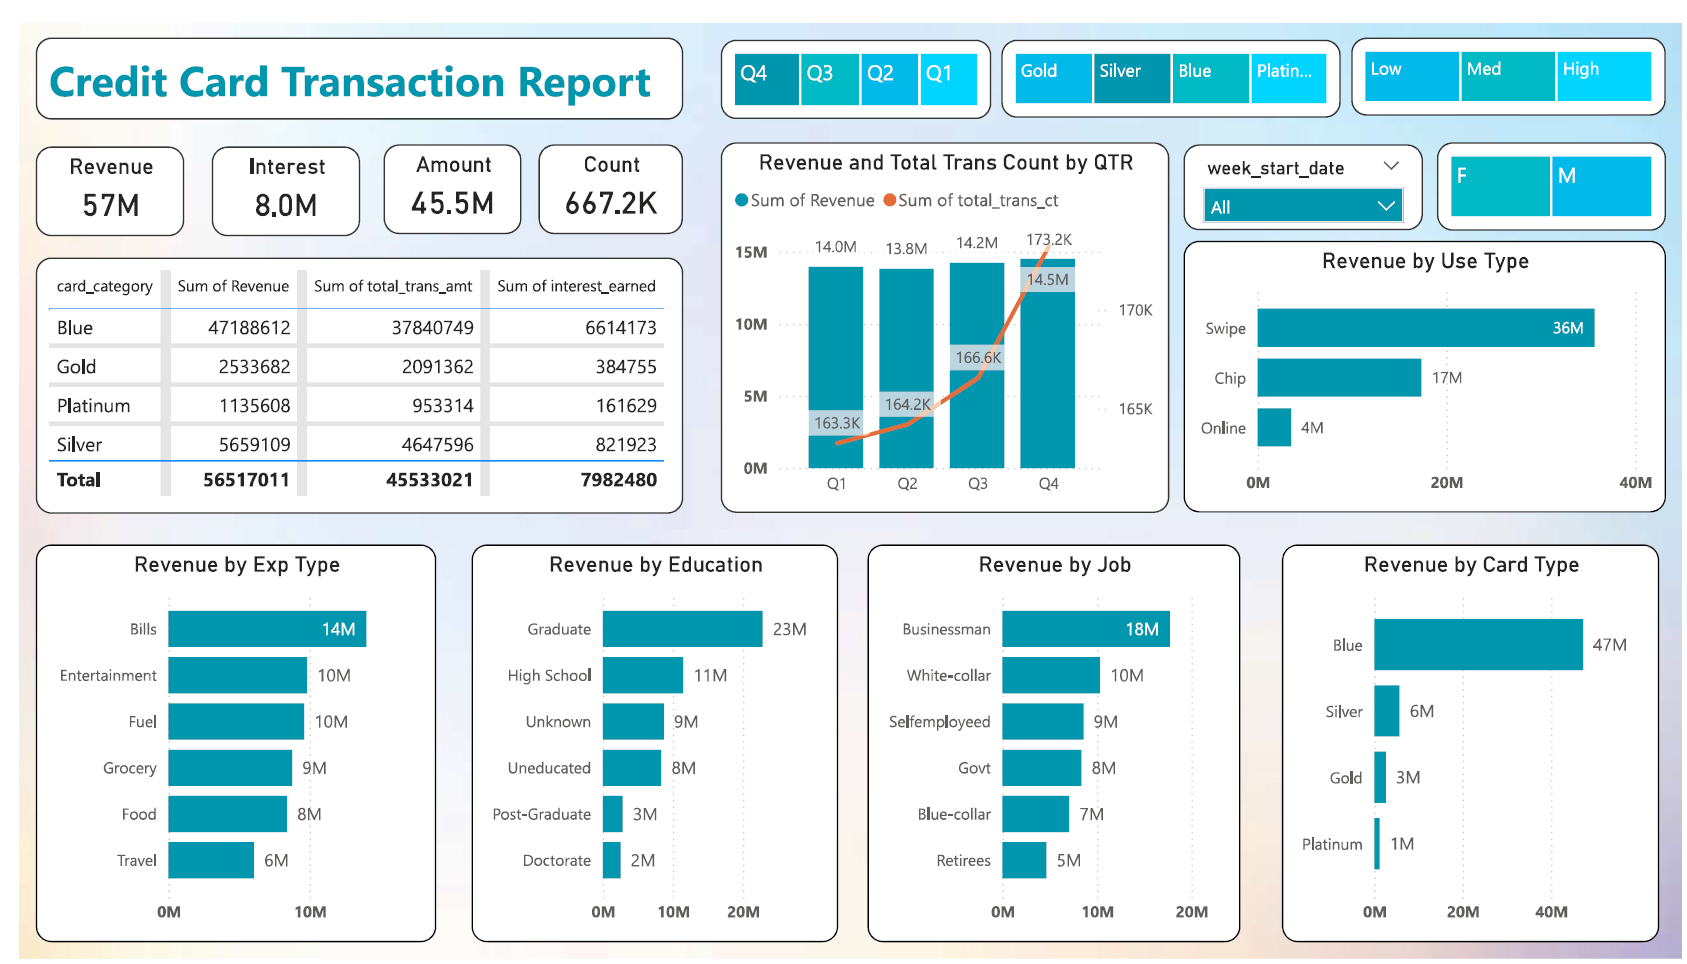

The dashboard page shown, as its layout file describes it:
{"tool":"powerbi","page":{"name":"CC Transaction","canvas":[1280,720],"ordinal":0},"visuals":[{"type":"textbox","box":[12.9,11.3,497.9,62.8],"z":0},{"type":"lineStackedColumnComboChart","title":"Revenue and Total Trans Count by QTR","fields":{"Category":["public cc_detail.qtr"],"Y":["Sum(public cc_detail.Revenue)"],"Y2":["Sum(public cc_detail.total_trans_ct)"]},"box":[539.8,91.9,344.8,285.2],"z":1000},{"type":"barChart","title":"Revenue by Exp Type","fields":{"Y":["Sum(public cc_detail.Revenue)"],"Category":["public cc_detail.exp_type"]},"box":[12.9,401.2,307.8,306.2],"z":2000},{"type":"barChart","title":"Revenue by Education","fields":{"Y":["Sum(public cc_detail.Revenue)"],"Category":["public cust_detail.education_level"]},"box":[348.1,401.2,282,306.2],"z":3000},{"type":"barChart","title":"Revenue by Job","fields":{"Y":["Sum(public cc_detail.Revenue)"],"Category":["public cust_detail.customer_job"]},"box":[652.6,401.2,286.8,306.2],"z":4000},{"type":"barChart","title":"Revenue by Card Type","fields":{"Y":["Sum(public cc_detail.Revenue)"],"Category":["public cc_detail.card_category"]},"box":[971.7,401.2,290.1,306.2],"z":5000},{"type":"barChart","title":"Revenue by Use Type","fields":{"Y":["Sum(public cc_detail.Revenue)"],"Category":["public cc_detail.use_chip"]},"box":[896,167.6,370.6,209.5],"z":6000},{"type":"tableEx","fields":{"Values":["public cc_detail.card_category","Sum(public cc_detail.Revenue)","Sum(public cc_detail.total_trans_amt)","Sum(public cc_detail.interest_earned)"]},"box":[12.9,180.5,497.9,196.6],"z":7000},{"type":"card","title":"Revenue","fields":{"Values":["Sum(public cc_detail.Revenue)"]},"box":[12.9,95.1,114.4,69.3],"z":8000},{"type":"card","title":"Interest","fields":{"Values":["Sum(public cc_detail.interest_earned)"]},"box":[148.3,95.1,114.4,69.3],"z":9000},{"type":"card","title":"Amount","fields":{"Values":["Sum(public cc_detail.total_trans_amt)"]},"box":[280.4,93.5,106.4,69.3],"z":10000},{"type":"card","title":"Count","fields":{"Values":["Sum(public cc_detail.total_trans_ct)"]},"box":[399.6,93.5,111.2,69.3],"z":11000},{"type":"slicer","fields":{"Values":["public cc_detail.week_start_date"]},"box":[896,93.5,183.7,66.1],"z":12000},{"type":"treemap","fields":{"Group":["public cc_detail.qtr"],"Values":["Avg(public cc_detail.client_num)"]},"box":[539.8,12.9,207.9,61.2],"z":13000},{"type":"treemap","fields":{"Group":["public cust_detail.gender"],"Values":["Avg(public cc_detail.client_num)"]},"box":[1090.9,91.9,175.6,67.7],"z":14000},{"type":"treemap","fields":{"Group":["public cc_detail.card_category"],"Values":["Avg(public cc_detail.client_num)"]},"box":[755.8,12.9,261.1,59.6],"z":15000},{"type":"treemap","fields":{"Group":["public cust_detail.IncomeGroup"],"Values":["Avg(public cc_detail.client_num)"]},"box":[1024.9,11.3,241.7,59.6],"z":16000}]}

Visuals, with their boxes in screenshot pixels (x1, y1, x2, y2), scaled from the page's 1280x720 canvas onto the 1687x964 screenshot:
textbox: select_region(17, 15, 673, 99)
"Revenue and Total Trans Count by QTR" lineStackedColumnComboChart: select_region(711, 123, 1166, 505)
"Revenue by Exp Type" barChart: select_region(17, 537, 423, 947)
"Revenue by Education" barChart: select_region(459, 537, 830, 947)
"Revenue by Job" barChart: select_region(860, 537, 1238, 947)
"Revenue by Card Type" barChart: select_region(1281, 537, 1663, 947)
"Revenue by Use Type" barChart: select_region(1181, 224, 1669, 505)
tableEx - public cc_detail.card_category x Sum(public cc_detail.Revenue): select_region(17, 242, 673, 505)
"Revenue" card: select_region(17, 127, 168, 220)
"Interest" card: select_region(195, 127, 346, 220)
"Amount" card: select_region(370, 125, 510, 218)
"Count" card: select_region(527, 125, 673, 218)
slicer - public cc_detail.week_start_date: select_region(1181, 125, 1423, 214)
treemap - public cc_detail.qtr x Avg(public cc_detail.client_num): select_region(711, 17, 985, 99)
treemap - public cust_detail.gender x Avg(public cc_detail.client_num): select_region(1438, 123, 1669, 214)
treemap - public cc_detail.card_category x Avg(public cc_detail.client_num): select_region(996, 17, 1340, 97)
treemap - public cust_detail.IncomeGroup x Avg(public cc_detail.client_num): select_region(1351, 15, 1669, 95)
